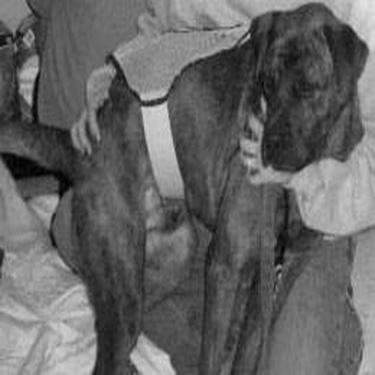dog: (3, 1, 372, 372)
